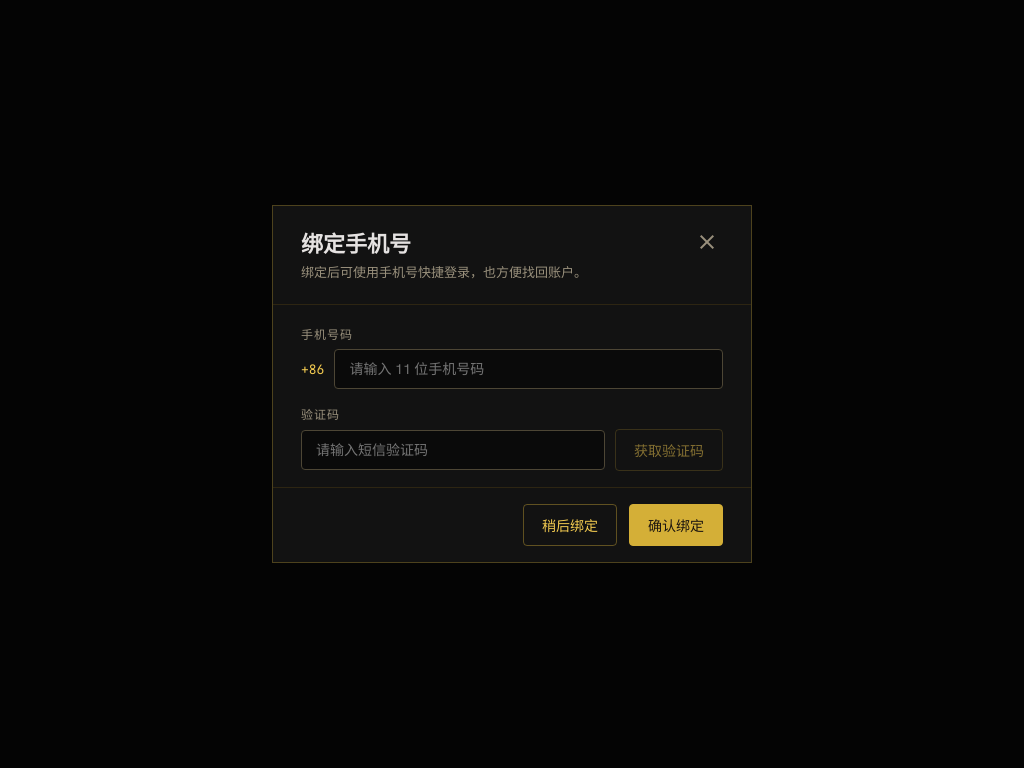
PhoneBindingModal › sends the login-scene SMS code and binds the submitted phone
Step 1. Type "13800138000" into the field named "phone-binding-phone" → [529, 369], box [334,349,723,389]
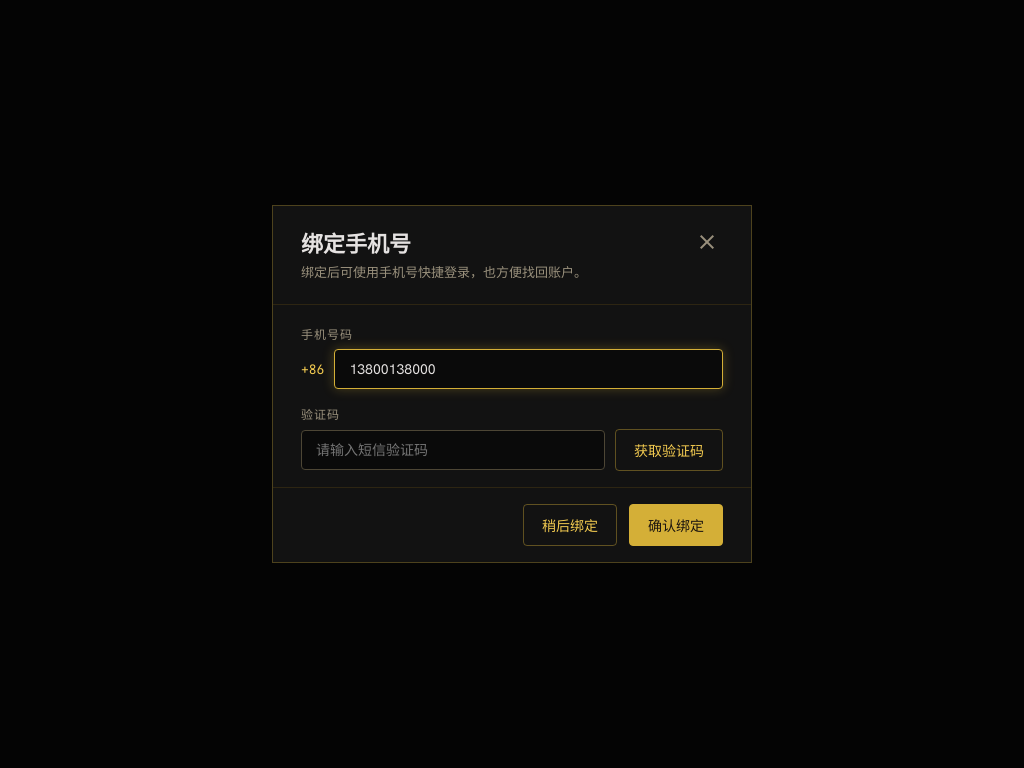
Step 2. Click the button "获取验证码" → [669, 450], box [615,429,723,471]
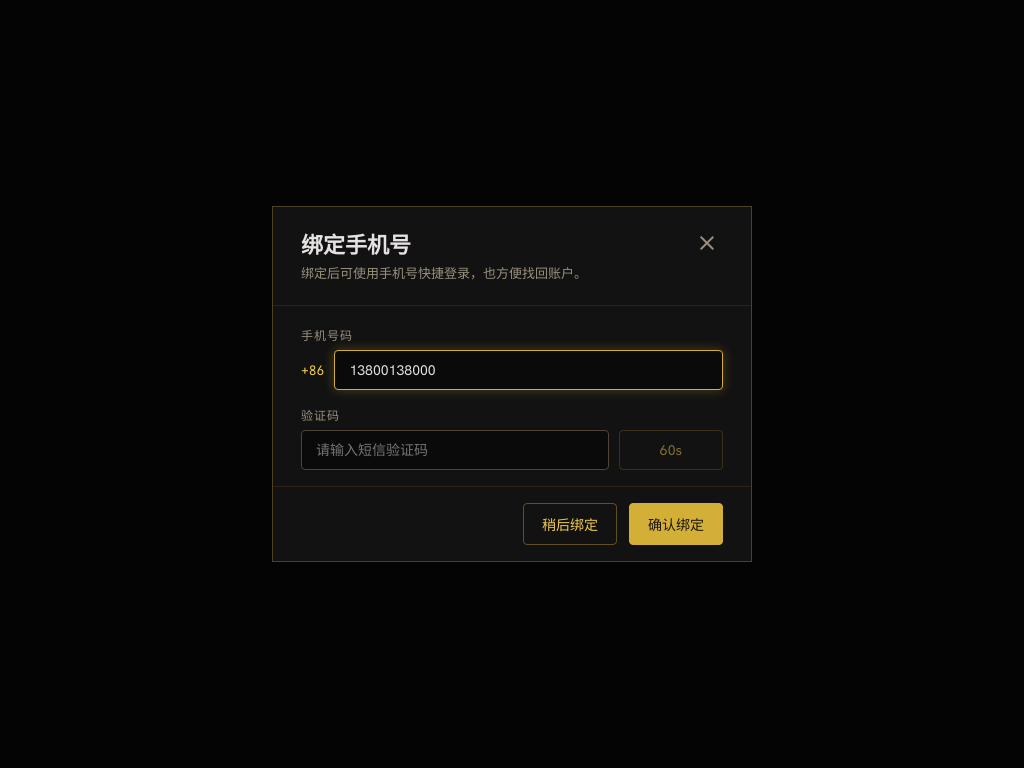
Step 3. Type "123456" into the field named "phone-binding-code" → [455, 450], box [301,430,609,470]
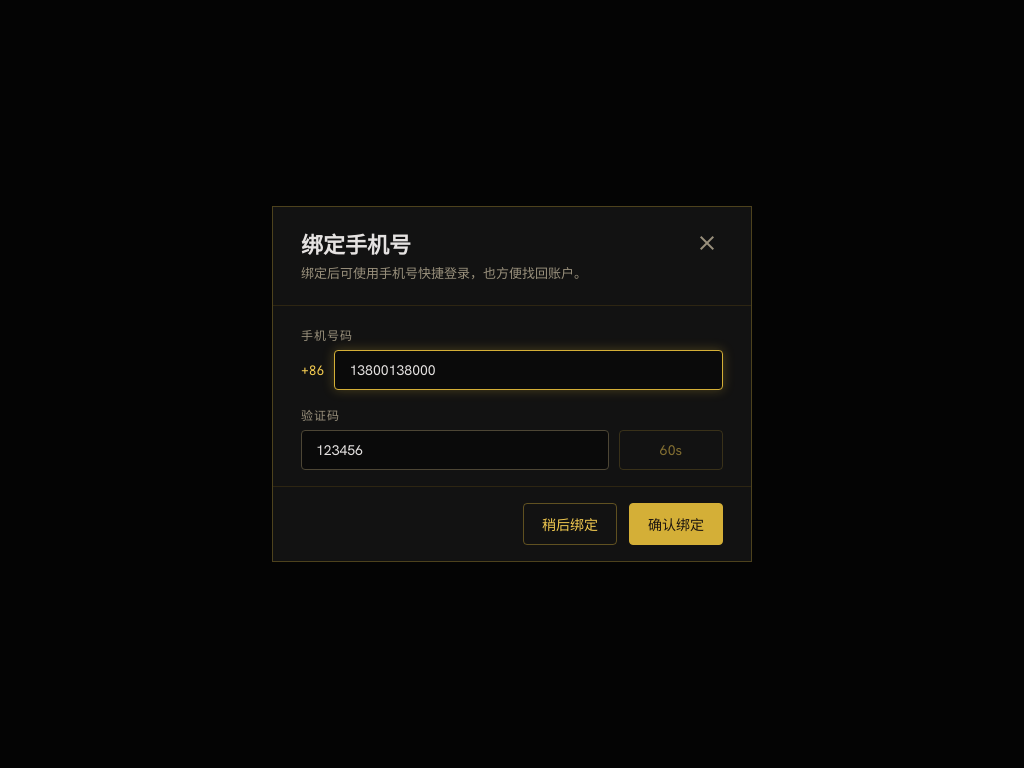
Step 4. Submit the form, box [273,306,751,561]
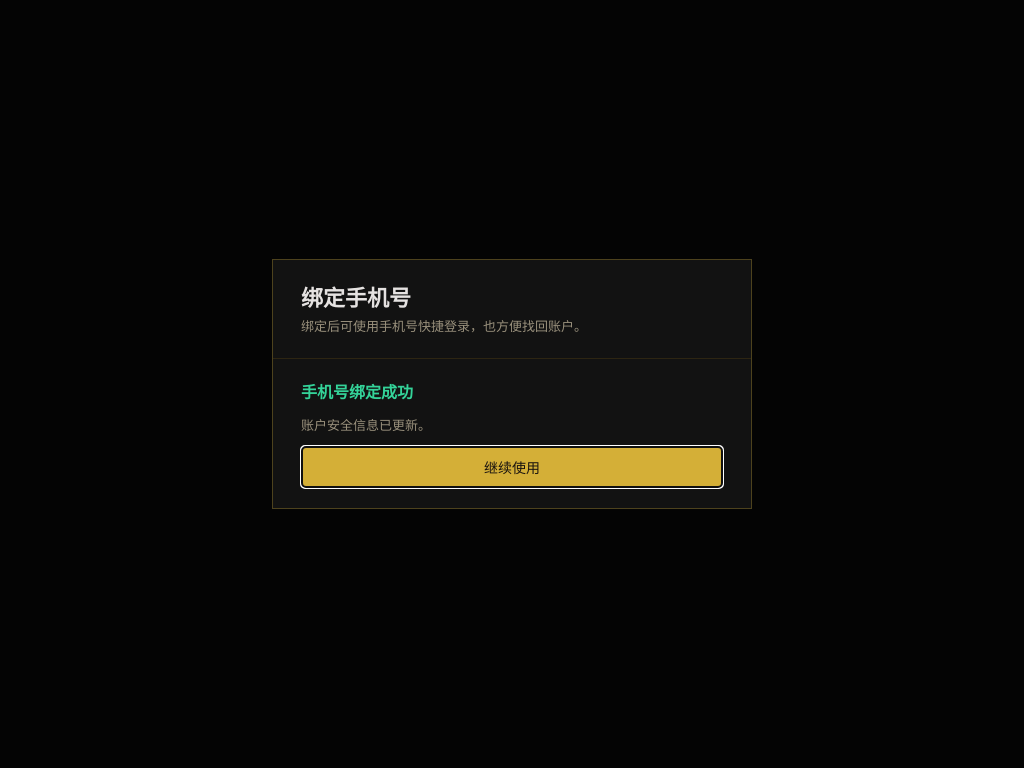
Now the element showing "手机号绑定成功 账户安全信息已更新。 继续使用" is shown, box [273,359,751,508]
